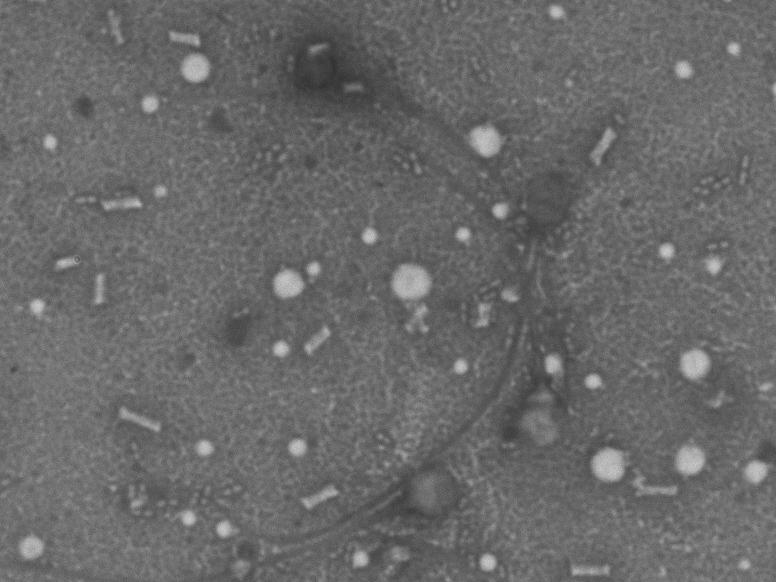Abnormal: (187, 155, 602, 569)
